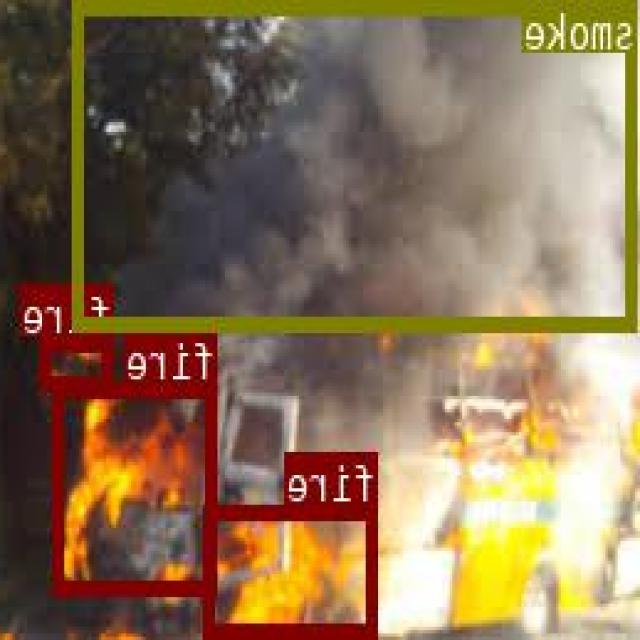fire: (56, 382, 218, 593), (208, 505, 380, 633), (44, 333, 115, 388)
smoke: (75, 0, 639, 327)
